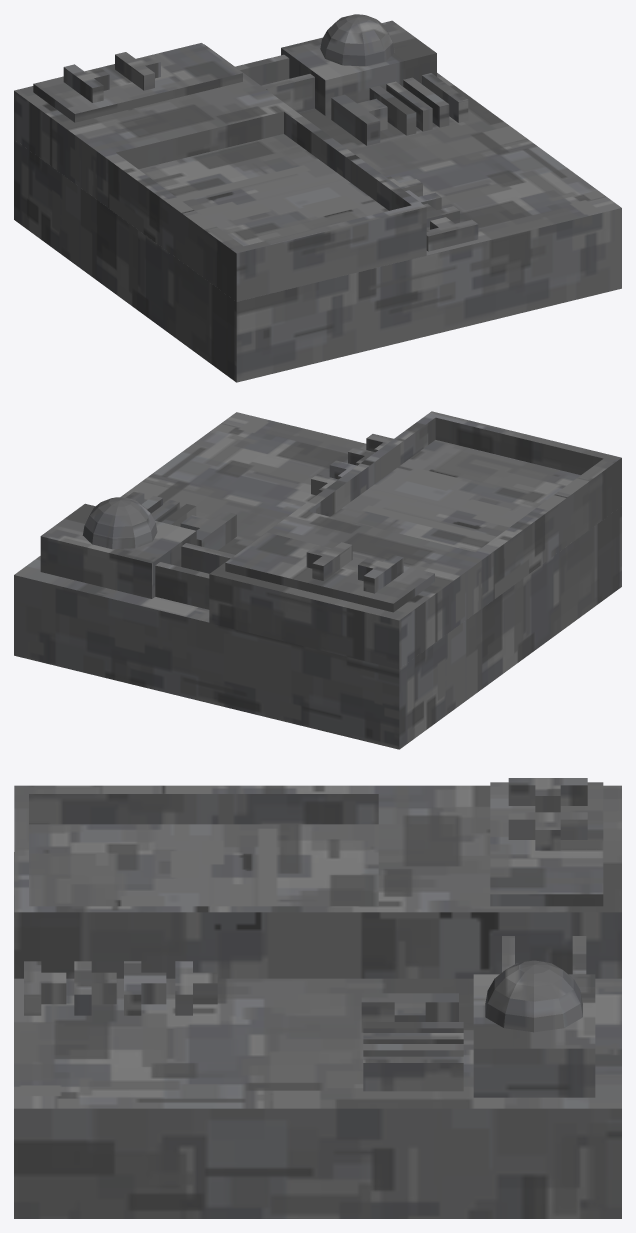
File: block 2x2 top right.fbx
3 views of the same model, one above another, from view 1: azimuth 30°, elevation 25°; view 2: azimuth 150°, elevation 25°; view 3: azimuth 270°, elevation 25° (orthographic). The views are drawn at different scales.
Parts seen in each view (by area): view 1: Top_Right; view 2: Top_Right; view 3: Top_Right.
Boxes of the visible parts, x1,y1,x2,y2 form: Top_Right: (14, 14, 621, 382); Top_Right: (14, 411, 621, 749); Top_Right: (14, 778, 621, 1218).
Bounding box in the file's own units: 5 × 1.89 × 5.
Materials: 1 (1 with a texture image).
